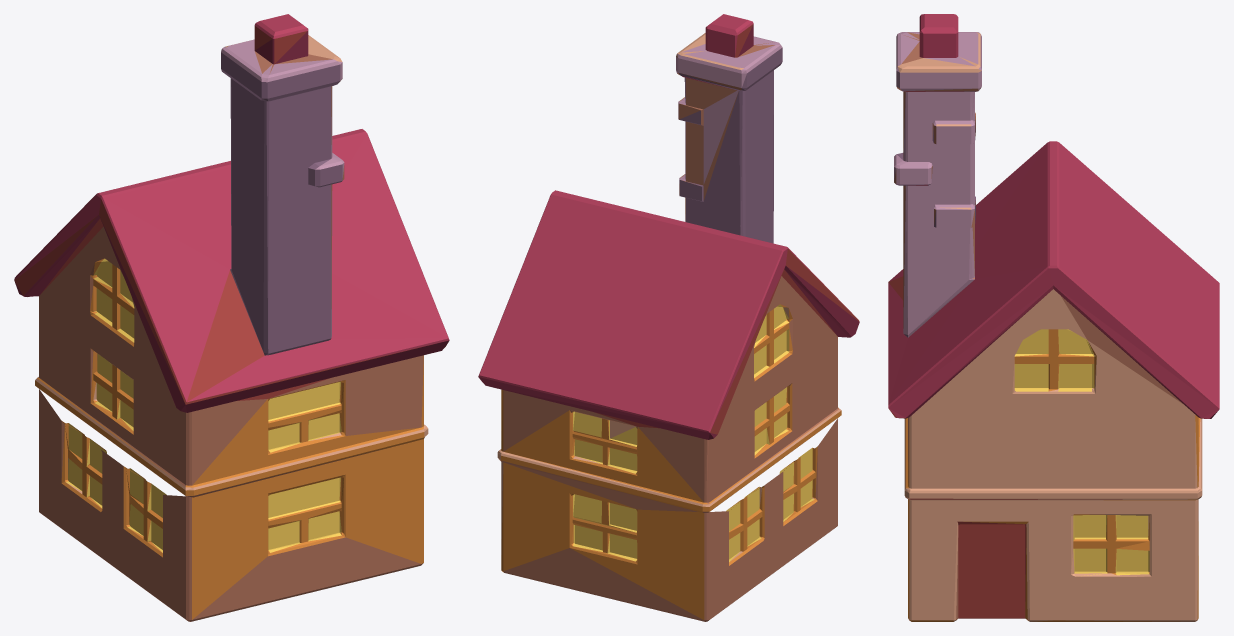
Rendered from house3.glb.
3 views of the same model, side by side, from view 1: azimuth 30°, elevation 25°; view 2: azimuth 150°, elevation 25°; view 3: azimuth 270°, elevation 25° (orthographic). The views are drawn at different scales.
Visible parts, largest first — view 1: #B9765E, #B8405E, #E08A3A, #8E6A86, #FFD45C, #A8443F, #8A2E48, #C495B0, #E9A989; view 2: #B8405E, #B9765E, #E08A3A, #8E6A86, #FFD45C, #C495B0, #8A2E48, #E9A989, #A8443F; view 3: #E9A989, #B8405E, #C495B0, #A8443F, #FFD45C, #E08A3A, #B9765E, #8A2E48.
Part boxes in pixels (x1,y1,x2,y2): #B9765E: (37, 51, 424, 621); #B8405E: (14, 14, 449, 402); #E08A3A: (35, 258, 424, 619); #8E6A86: (221, 52, 342, 355); #FFD45C: (66, 258, 341, 552); #A8443F: (14, 26, 448, 404); #8A2E48: (14, 31, 449, 412); #C495B0: (221, 39, 344, 337); #E9A989: (35, 35, 428, 493); #B8405E: (478, 14, 851, 432); #B9765E: (500, 42, 838, 621); #E08A3A: (501, 304, 841, 619); #8E6A86: (679, 47, 782, 243); #FFD45C: (573, 304, 814, 561); #C495B0: (676, 36, 782, 221); #8A2E48: (478, 24, 859, 439); #E9A989: (497, 33, 841, 561); #A8443F: (595, 24, 859, 434); #E9A989: (897, 32, 1202, 621); #B8405E: (888, 14, 1219, 418); #C495B0: (894, 32, 981, 337); #A8443F: (888, 276, 1206, 618); #FFD45C: (1014, 329, 1149, 576); #E08A3A: (905, 329, 1200, 621); #B9765E: (894, 32, 1201, 620); #8A2E48: (904, 91, 1218, 525).
Size of the model in its own units: 0.4951 by 1 by 0.5538.
